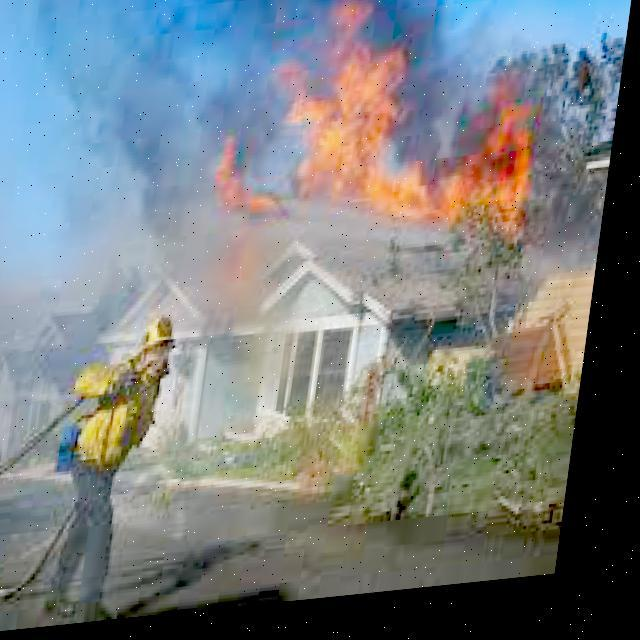Fire: (197, 7, 584, 288)
